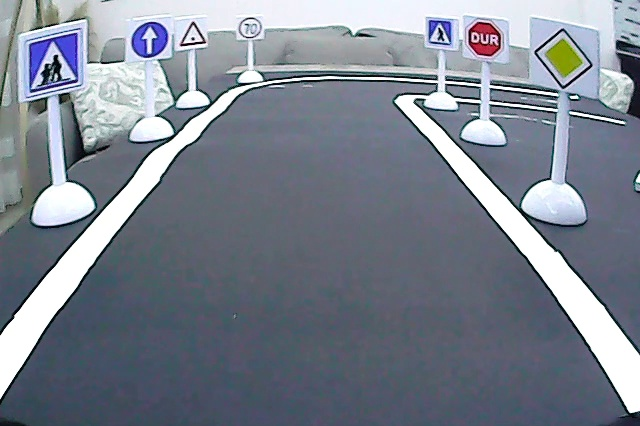green light: (178, 19, 210, 48)
pedestrian crossing: (428, 18, 455, 48)
school crossing: (22, 29, 83, 96)
speed limit 70: (236, 16, 265, 40)
stop sign: (464, 18, 506, 59)
